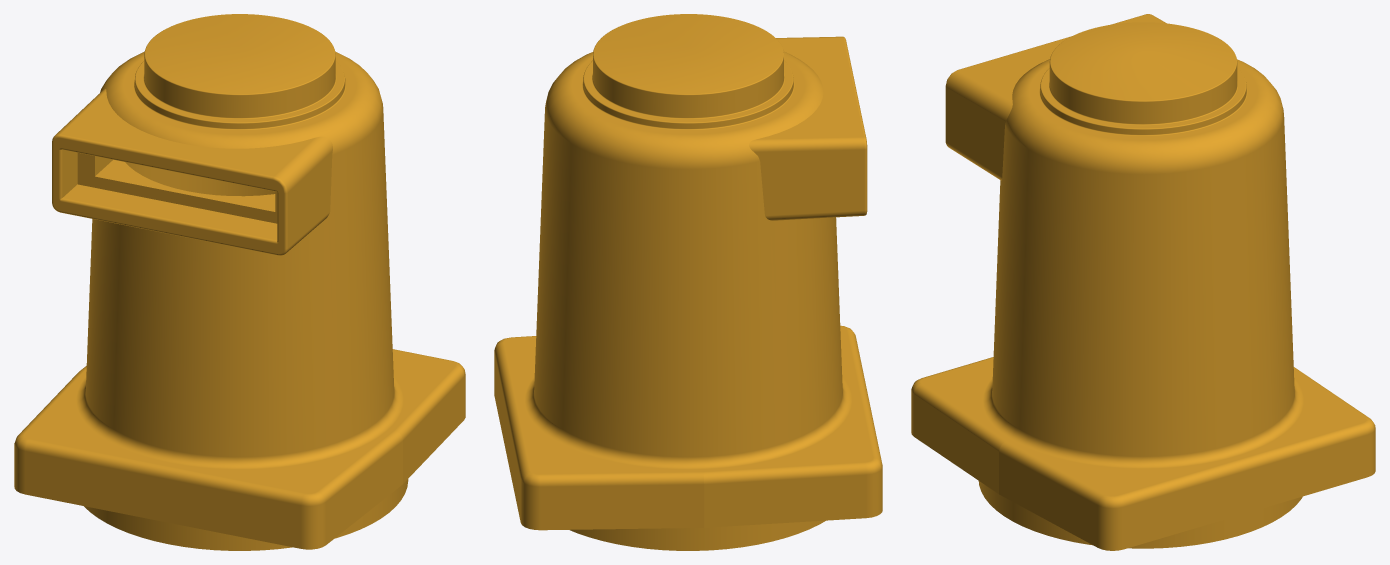
The model's file is 04.7_izolyator-prokhodnoy-uglovoy-ipu-10-190.glb.
3 renders of one model, left to right at view 1: azimuth 30°, elevation 25°; view 2: azimuth 150°, elevation 25°; view 3: azimuth 270°, elevation 25°, orthographic. The views are drawn at different scales.
Visible parts, largest first — view 1: 04.7_izolyator-prokhodnoy-uglovoy-ipu-10-190; view 2: 04.7_izolyator-prokhodnoy-uglovoy-ipu-10-190; view 3: 04.7_izolyator-prokhodnoy-uglovoy-ipu-10-190.
Part boxes in pixels (left/top/right/bottom): 04.7_izolyator-prokhodnoy-uglovoy-ipu-10-190: left=14, top=14, right=465, bottom=550; 04.7_izolyator-prokhodnoy-uglovoy-ipu-10-190: left=494, top=14, right=882, bottom=550; 04.7_izolyator-prokhodnoy-uglovoy-ipu-10-190: left=911, top=14, right=1375, bottom=550.
Size of the model in its own units: 250 by 250 by 248.
